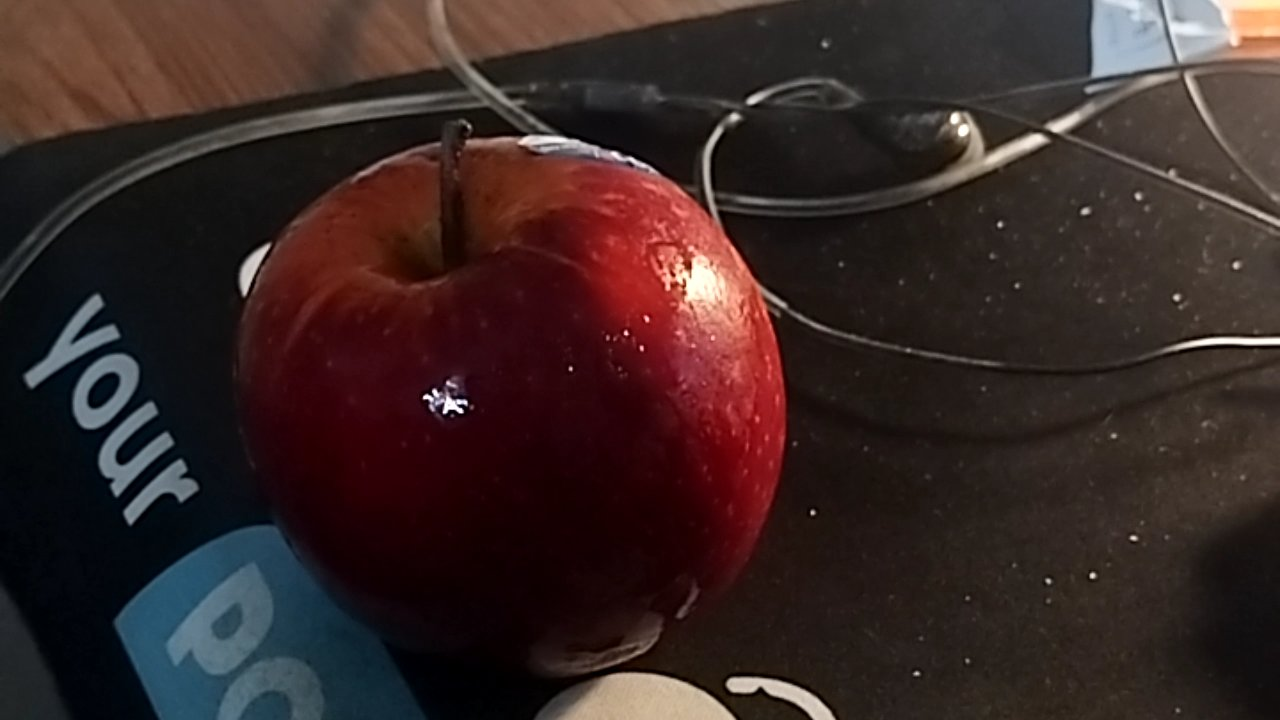apple_rotten: (230, 136, 796, 684)
